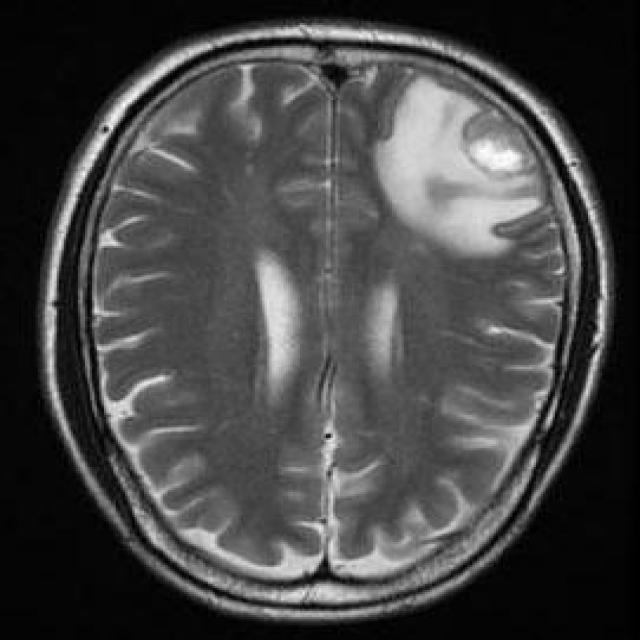Tumor-Cell: (392, 67, 548, 247)
